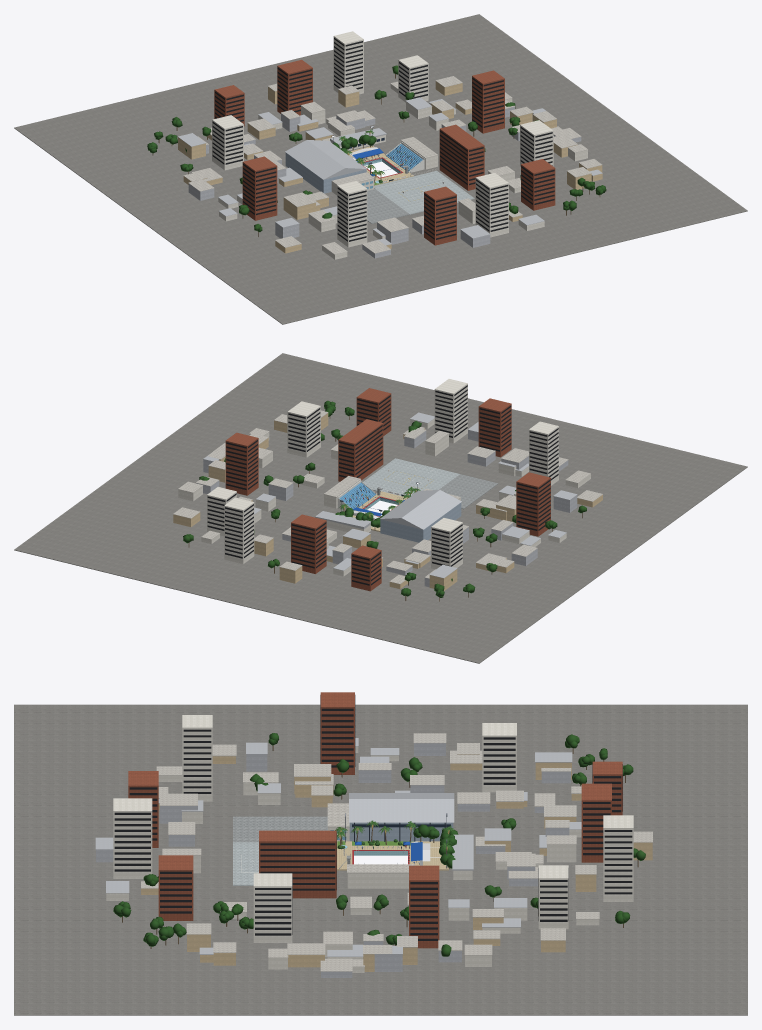
The model's file is natatorio.glb.
The picture shows the model from 3 angles, top to bottom: view 1: azimuth 30°, elevation 25°; view 2: azimuth 150°, elevation 25°; view 3: azimuth 270°, elevation 25°; orthographic projection. The views are drawn at different scales.
Parts seen in each view (by area): view 1: Suelo, CiudadEdificios, Balcones, CiudadTechos, Techos, Canchas, ArbolesCopas, Edificios, Gradas; view 2: Suelo, CiudadEdificios, Balcones, CiudadTechos, Canchas, Techos, ArbolesCopas, Edificios, Gradas; view 3: Suelo, CiudadEdificios, CiudadTechos, Balcones, ArbolesCopas, Techos, Canchas, Edificios, Solarium.
Boxes of the visible parts, left/top/right/bottom form: Suelo: left=14, top=14, right=747, bottom=324; CiudadEdificios: left=178, top=31, right=602, bottom=259; Balcones: left=212, top=37, right=554, bottom=241; CiudadTechos: left=178, top=76, right=602, bottom=254; Techos: left=285, top=128, right=437, bottom=185; Canchas: left=337, top=170, right=474, bottom=223; ArbolesCopas: left=147, top=65, right=606, bottom=232; Edificios: left=285, top=135, right=437, bottom=195; Gradas: left=386, top=144, right=422, bottom=171; Suelo: left=14, top=353, right=747, bottom=663; CiudadEdificios: left=173, top=379, right=602, bottom=591; Balcones: left=207, top=385, right=558, bottom=585; CiudadTechos: left=173, top=410, right=602, bottom=584; Canchas: left=362, top=458, right=498, bottom=509; Techos: left=315, top=476, right=461, bottom=529; ArbolesCopas: left=183, top=400, right=586, bottom=597; Edificios: left=316, top=480, right=461, bottom=542; Gradas: left=339, top=482, right=376, bottom=510; Suelo: left=14, top=704, right=747, bottom=1015; CiudadEdificios: left=96, top=692, right=652, bottom=977; CiudadTechos: left=95, top=733, right=652, bottom=971; Balcones: left=114, top=695, right=632, bottom=940; ArbolesCopas: left=113, top=733, right=645, bottom=956; Techos: left=327, top=793, right=473, bottom=873; Canchas: left=233, top=816, right=327, bottom=885; Edificios: left=328, top=822, right=472, bottom=888; Solarium: left=337, top=841, right=448, bottom=870.
Bounding box in the file's own units: 340 × 39.7 × 340.
63 materials, 23 textured.
